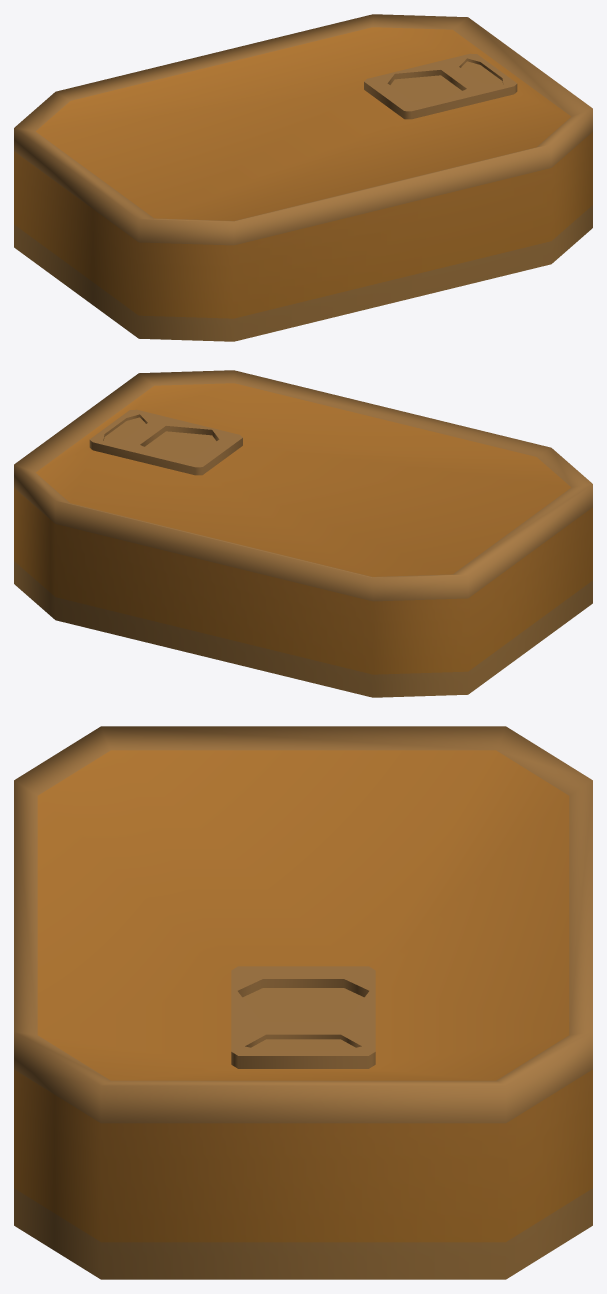
Rendered from can_food_square_orange.fbx.
The picture shows the model from 3 angles, top to bottom: view 1: azimuth 30°, elevation 25°; view 2: azimuth 150°, elevation 25°; view 3: azimuth 270°, elevation 25°; orthographic projection. The views are drawn at different scales.
Visible parts, largest first — view 1: can_food_square_orange; view 2: can_food_square_orange; view 3: can_food_square_orange.
Boxes of the visible parts, box(x1,y1,x2,y2) form: can_food_square_orange: box(14, 14, 592, 341); can_food_square_orange: box(14, 370, 592, 697); can_food_square_orange: box(14, 726, 592, 1279).
Bounding box in the file's own units: 80.81 × 20.69 × 54.99.
